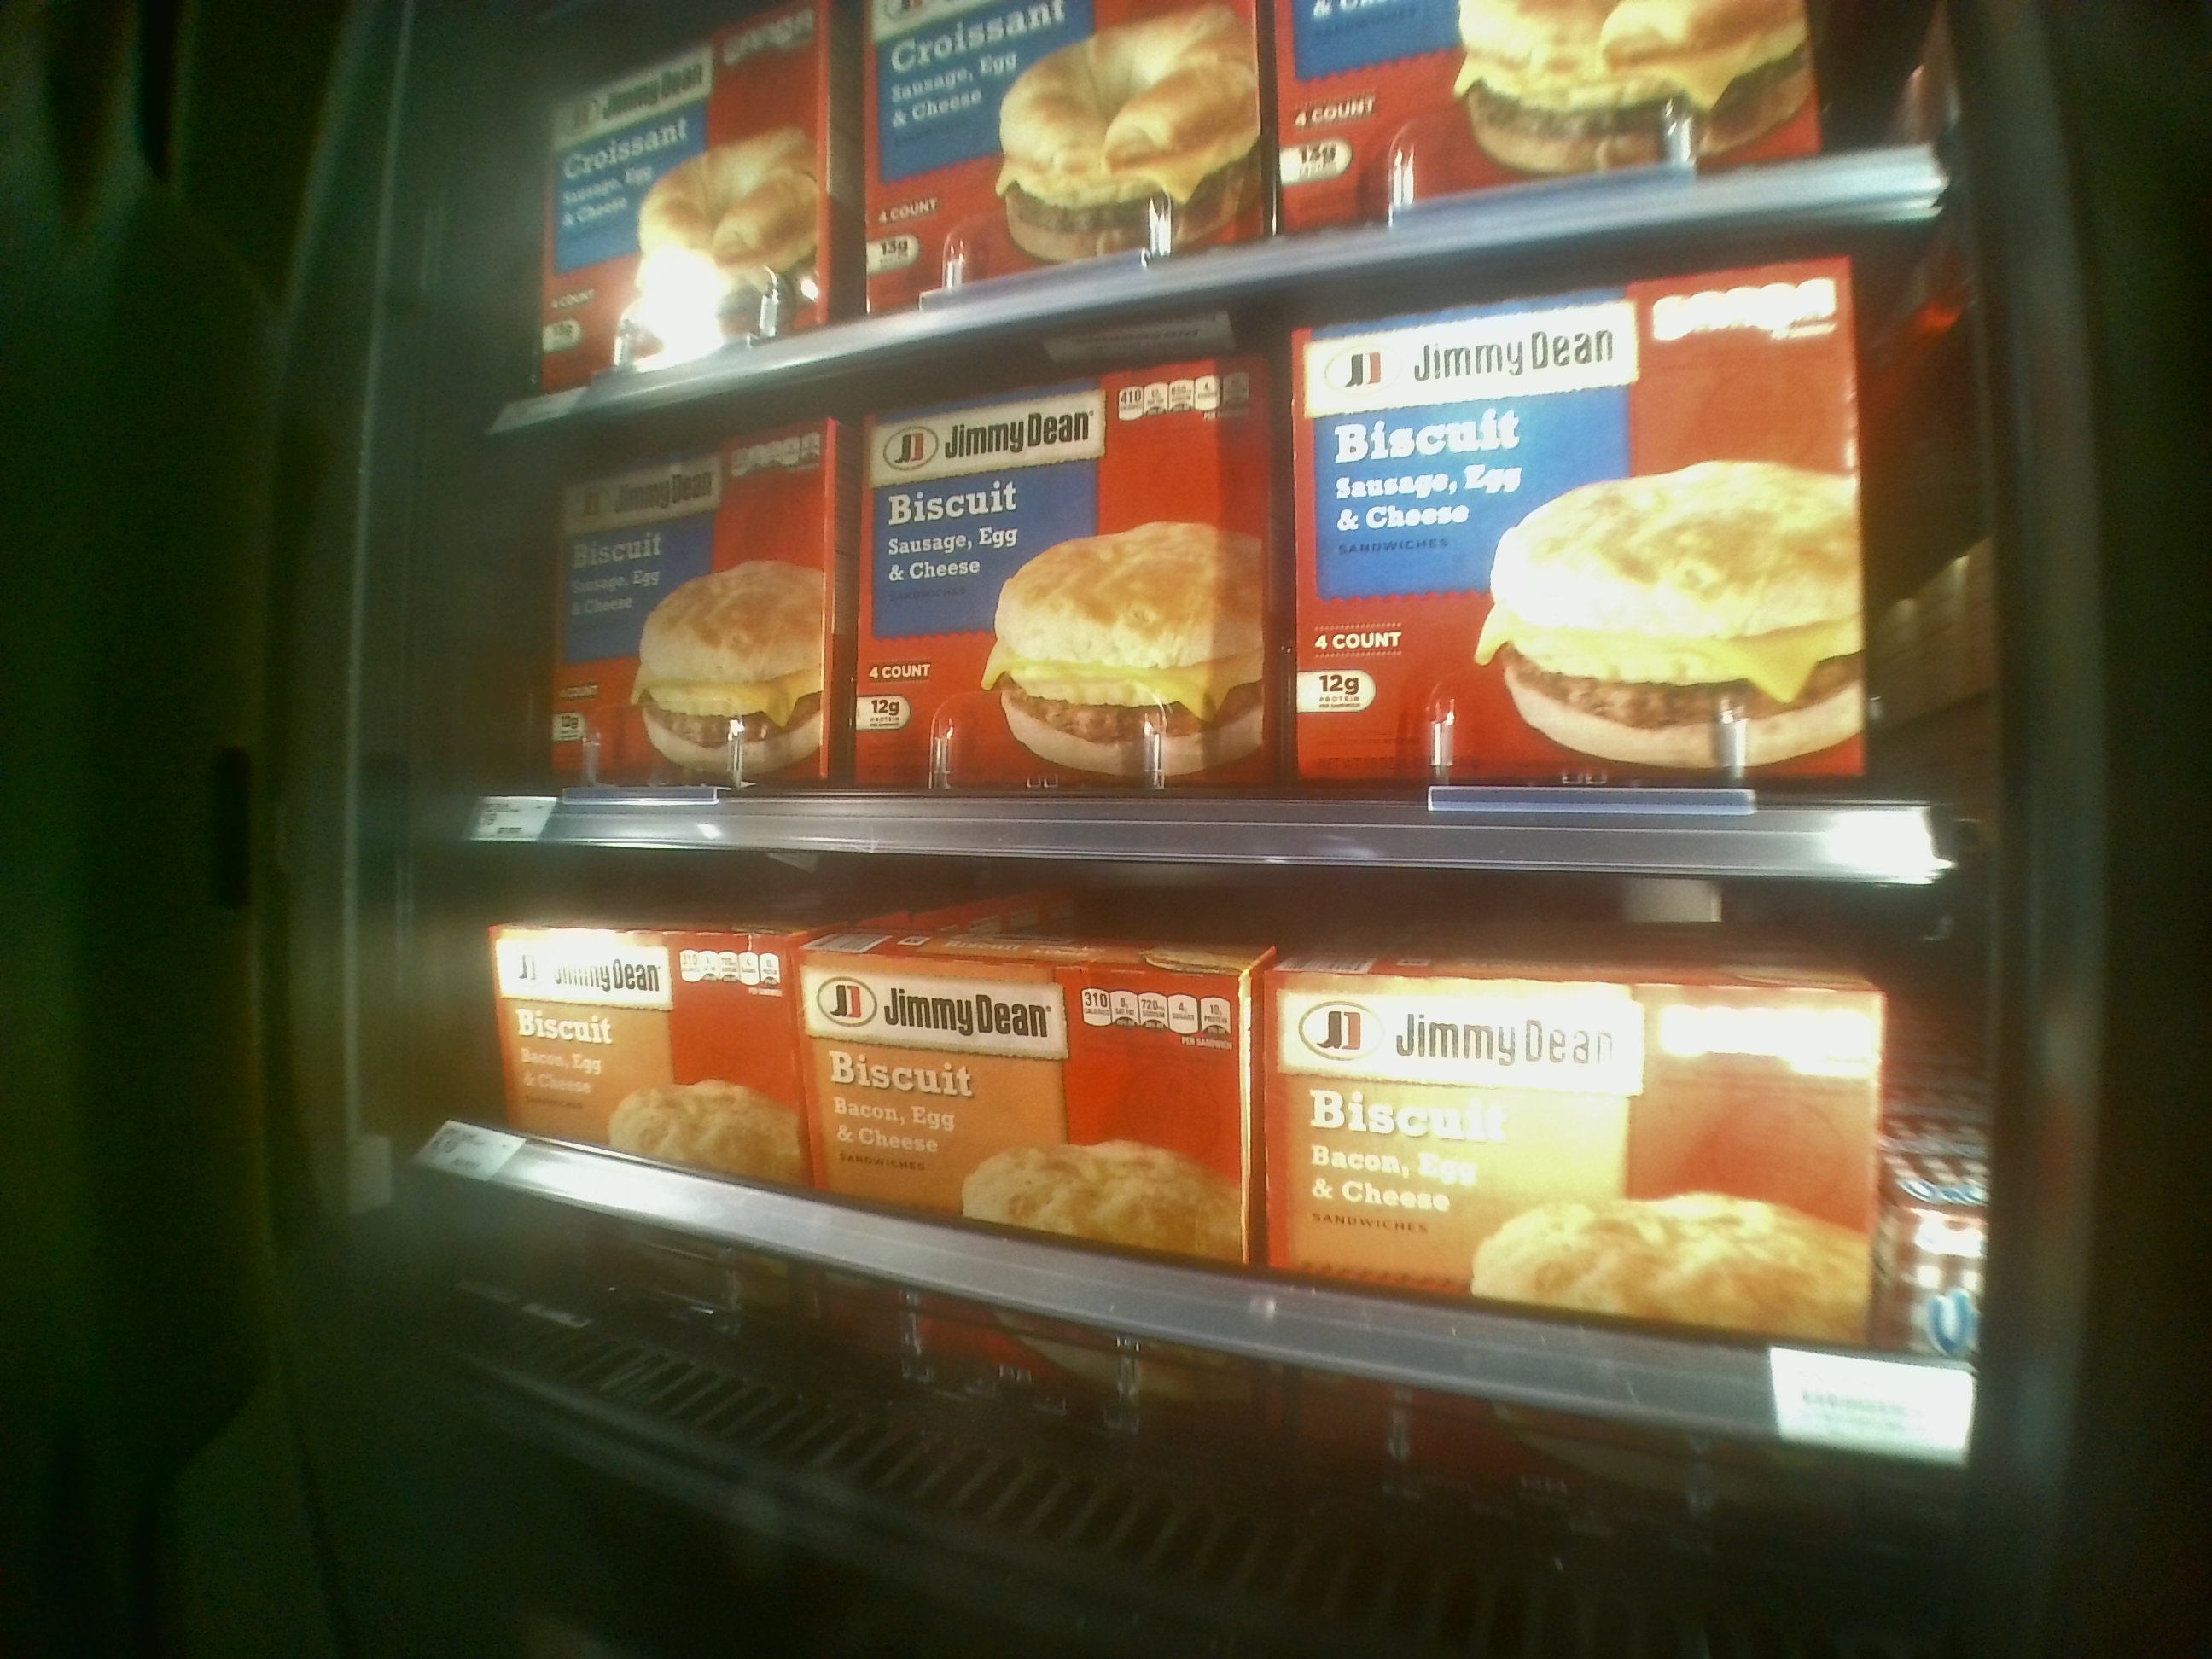shelf: (448, 819, 1998, 1575), (460, 416, 2010, 871)
